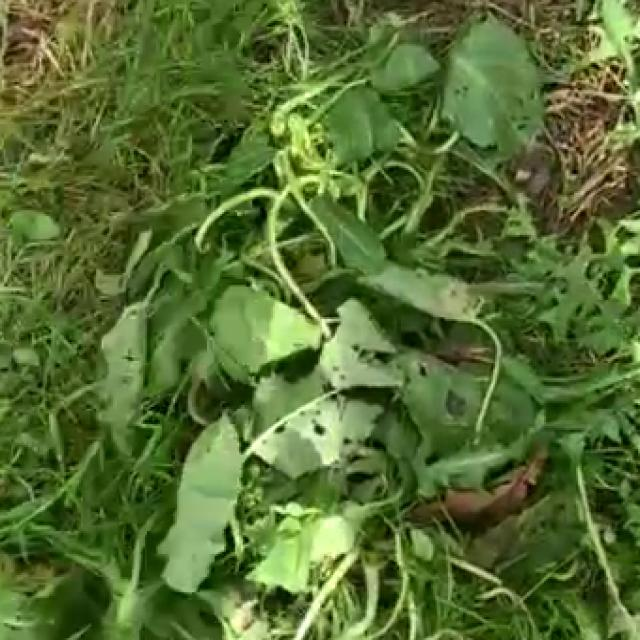organic waste: (111, 74, 640, 640)
